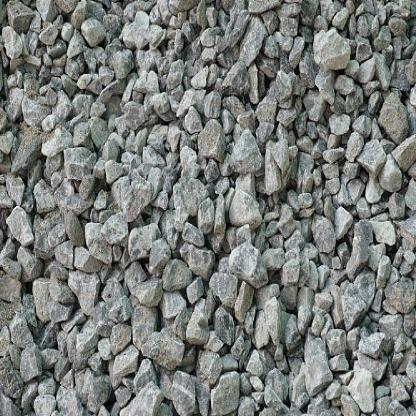Sedimentary_Limestone: (310, 18, 353, 80), (81, 88, 113, 165), (112, 173, 155, 227), (192, 114, 232, 165), (170, 173, 209, 223), (77, 13, 120, 58), (41, 122, 74, 179), (239, 14, 269, 69), (257, 136, 285, 193), (219, 248, 263, 280), (187, 293, 208, 347), (69, 271, 100, 296)
